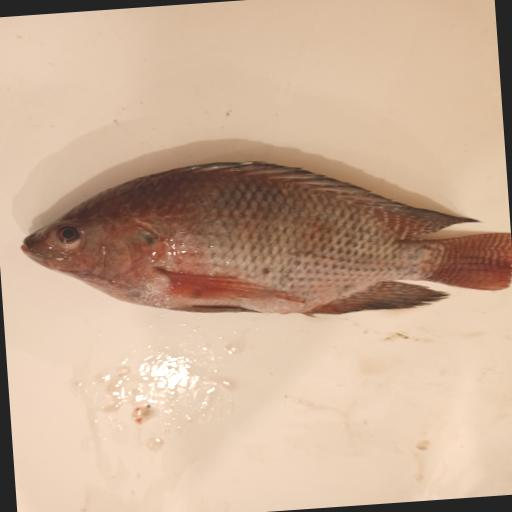Tilapia: (16, 142, 512, 337)
